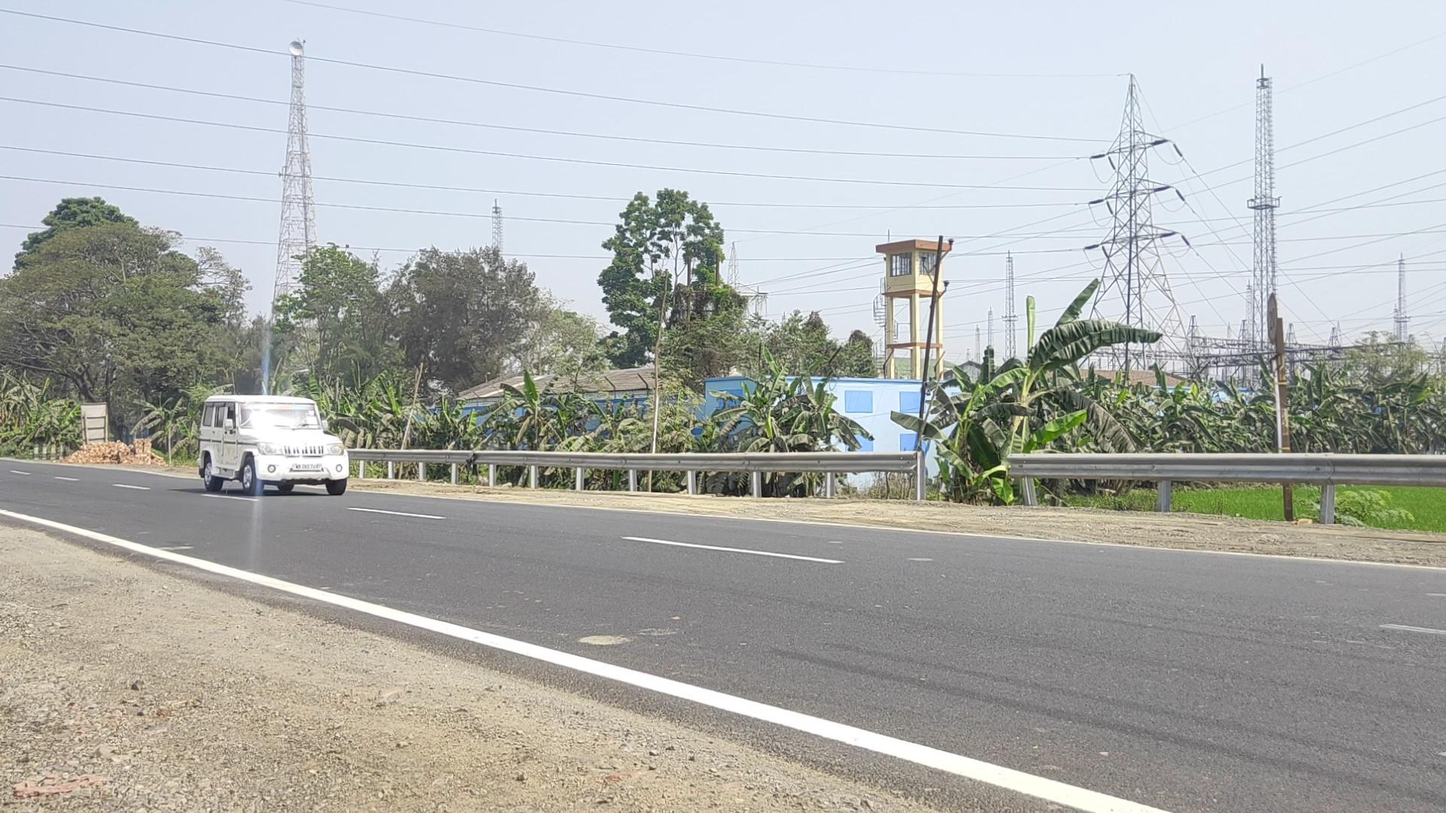car: (199, 395, 349, 497)
